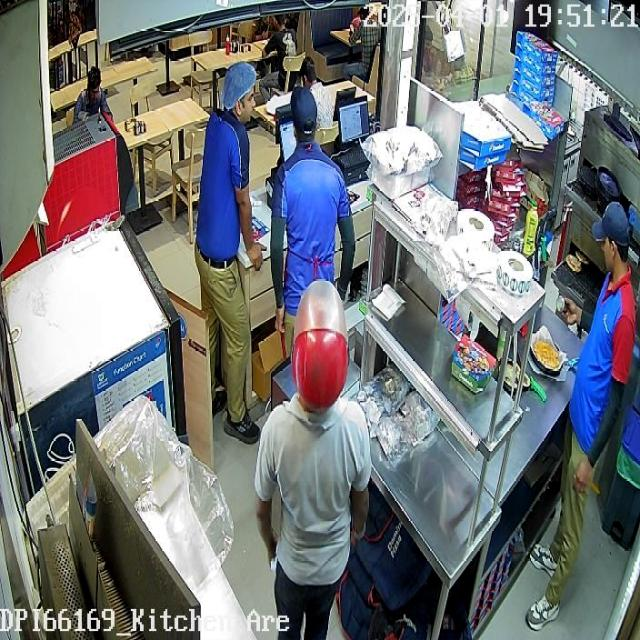helmet: (291, 279, 348, 410)
no_helmet: (591, 201, 629, 280), (222, 61, 257, 124), (290, 86, 318, 143)
